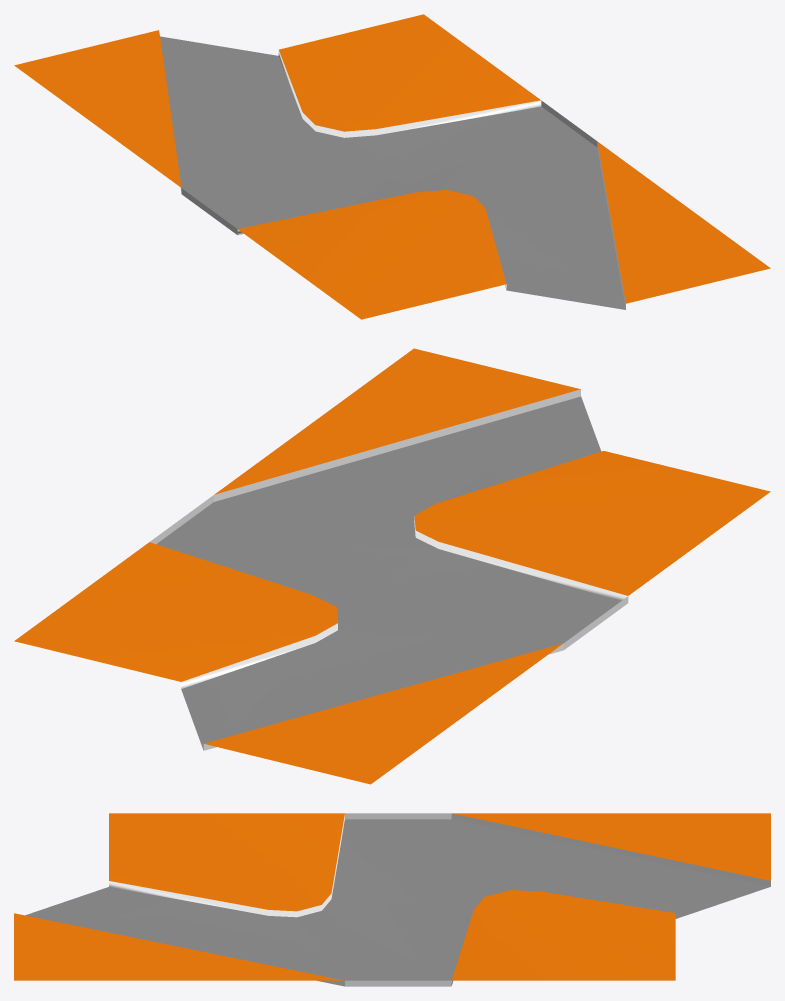
The model's file is PathC.fbx.
The picture shows the model from 3 angles, top to bottom: view 1: azimuth 30°, elevation 25°; view 2: azimuth 150°, elevation 25°; view 3: azimuth 270°, elevation 25°; orthographic projection. The views are drawn at different scales.
Parts seen in each view (by area): view 1: PathC; view 2: PathC; view 3: PathC.
Boxes of the visible parts, left/top/right/bottom form: PathC: left=14, top=14, right=770, bottom=319; PathC: left=14, top=348, right=770, bottom=784; PathC: left=14, top=813, right=770, bottom=986.
Bounding box in the file's own units: 1200 × 19.82 × 2295.
